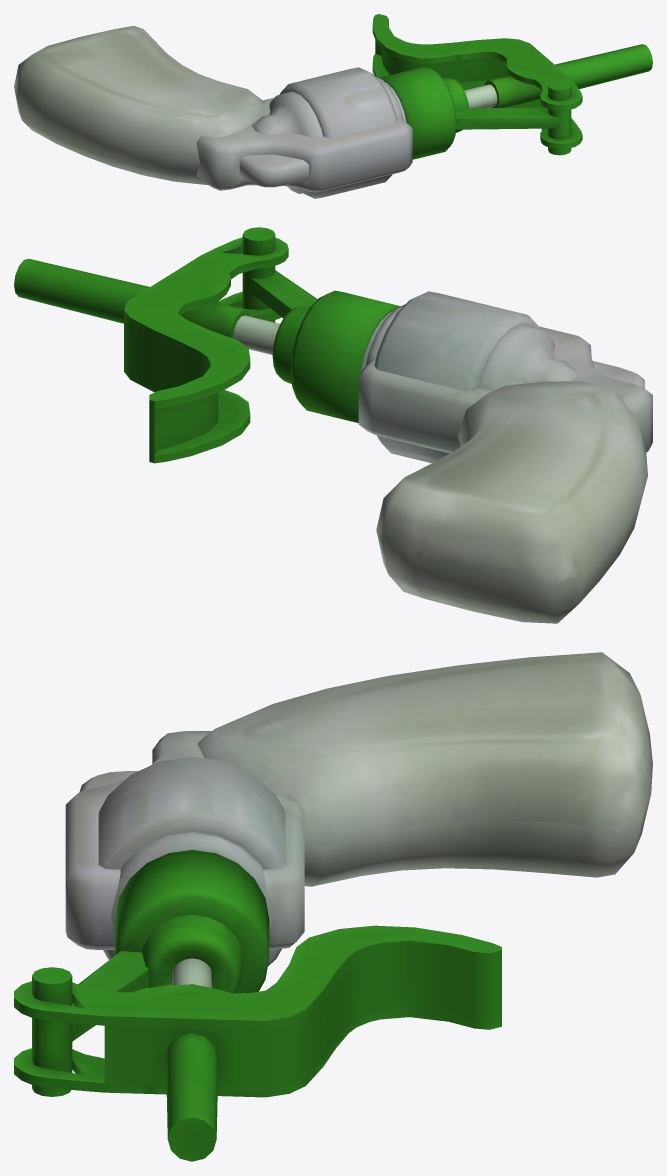
The model's file is GTWaterGun.obj.
3 renders of one model, top to bottom at view 1: azimuth 30°, elevation 25°; view 2: azimuth 150°, elevation 25°; view 3: azimuth 270°, elevation 25°, orthographic. The views are drawn at different scales.
Parts seen in each view (by area): view 1: shuiqiang.001, shuiqiang.003, shuiqiang.002; view 2: shuiqiang.001, shuiqiang.003, shuiqiang.002; view 3: shuiqiang.001, shuiqiang.003.
Boxes of the visible parts, x1,y1,x2,y2 form: shuiqiang.001: [14, 26, 412, 198]; shuiqiang.003: [372, 14, 652, 159]; shuiqiang.002: [18, 99, 311, 172]; shuiqiang.001: [358, 291, 652, 623]; shuiqiang.003: [14, 227, 400, 463]; shuiqiang.002: [389, 361, 644, 601]; shuiqiang.001: [65, 652, 652, 966]; shuiqiang.003: [14, 850, 501, 1161].
Size of the model in its own units: 2.14 by 0.4314 by 1.33.
